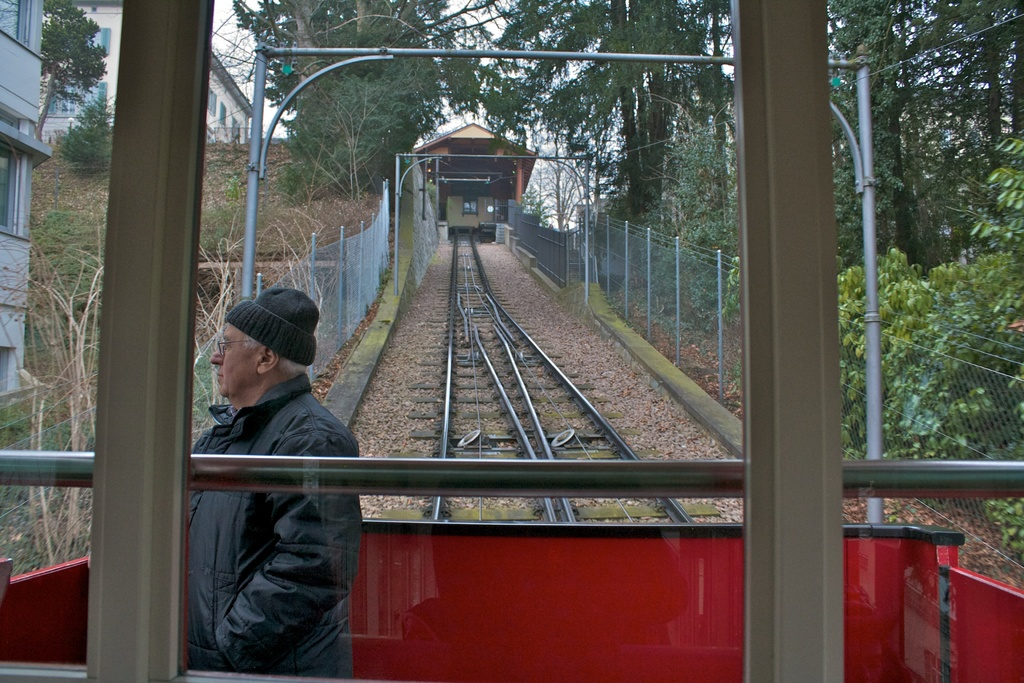Tree: (225, 0, 1023, 329), (37, 0, 109, 144)
